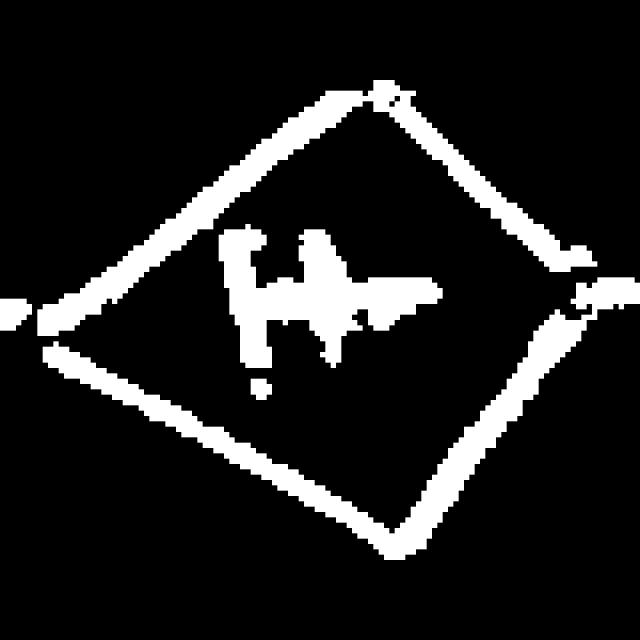dependant_voltage: (31, 82, 584, 563)
